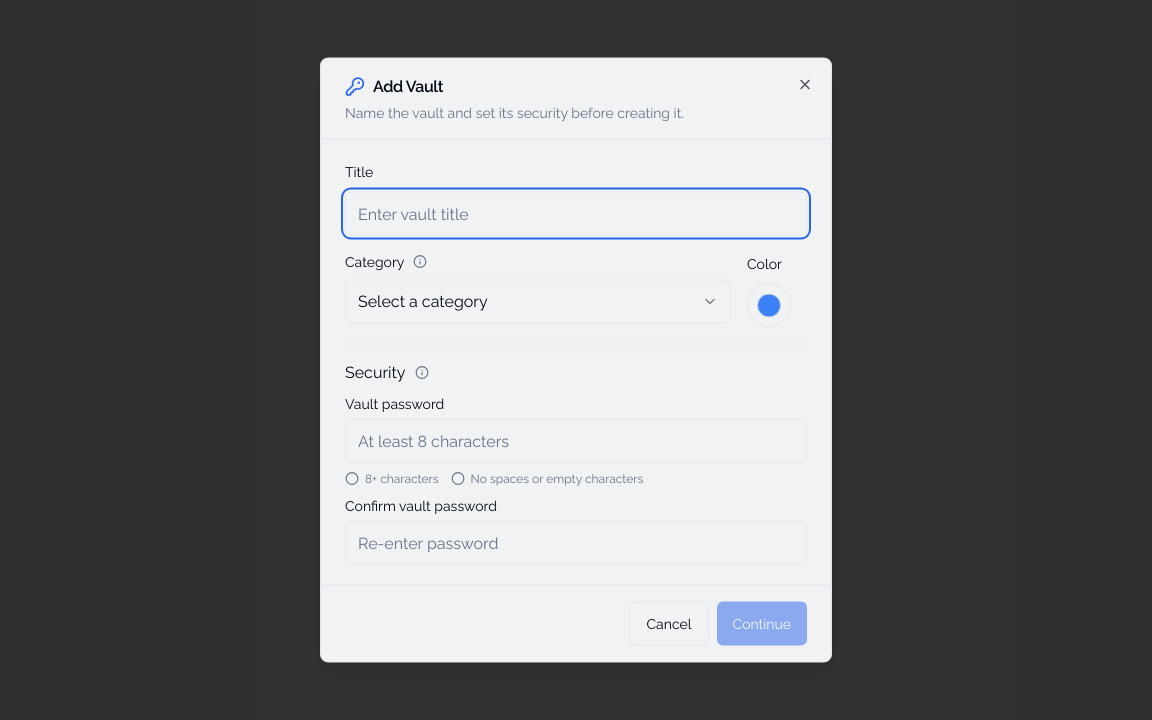
Test: CreateItemModal category guidance › moves empty-category guidance into the vault modal tooltip
Focus the button named "About categories" at (420, 262), box [410,252,430,272]
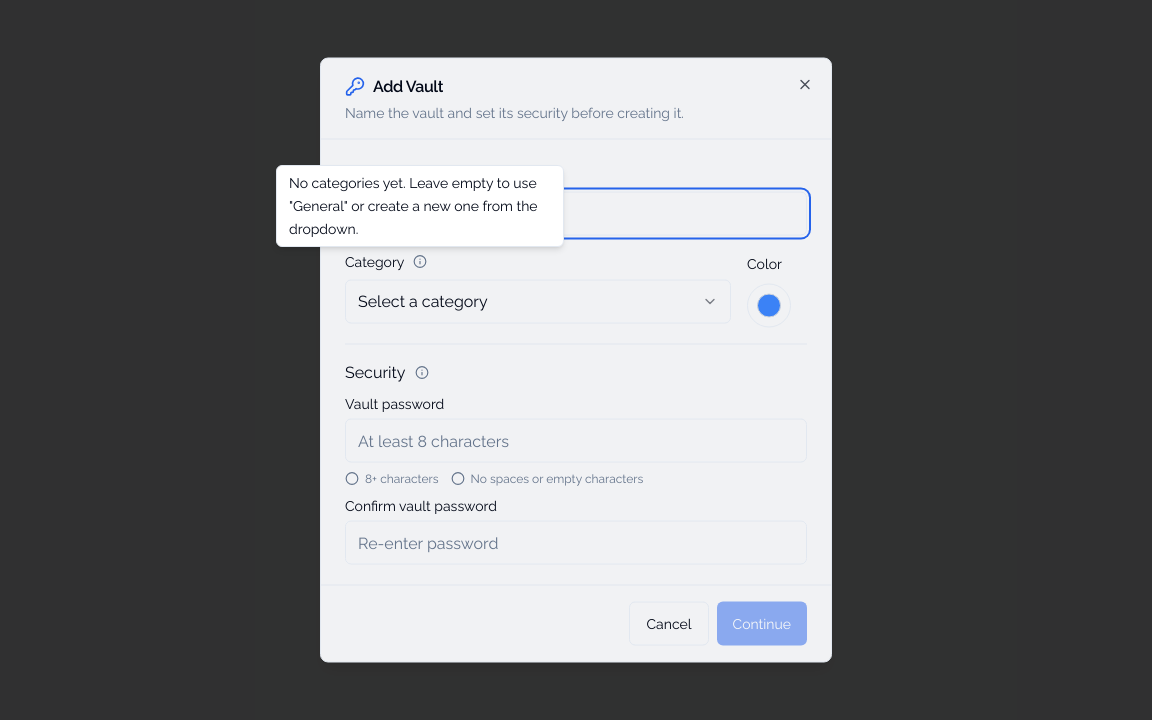
Now the tooltip named "No categories yet. Leave empty to use \"General\" or create a new one from the dropdown." is shown, box [276,165,564,247]
